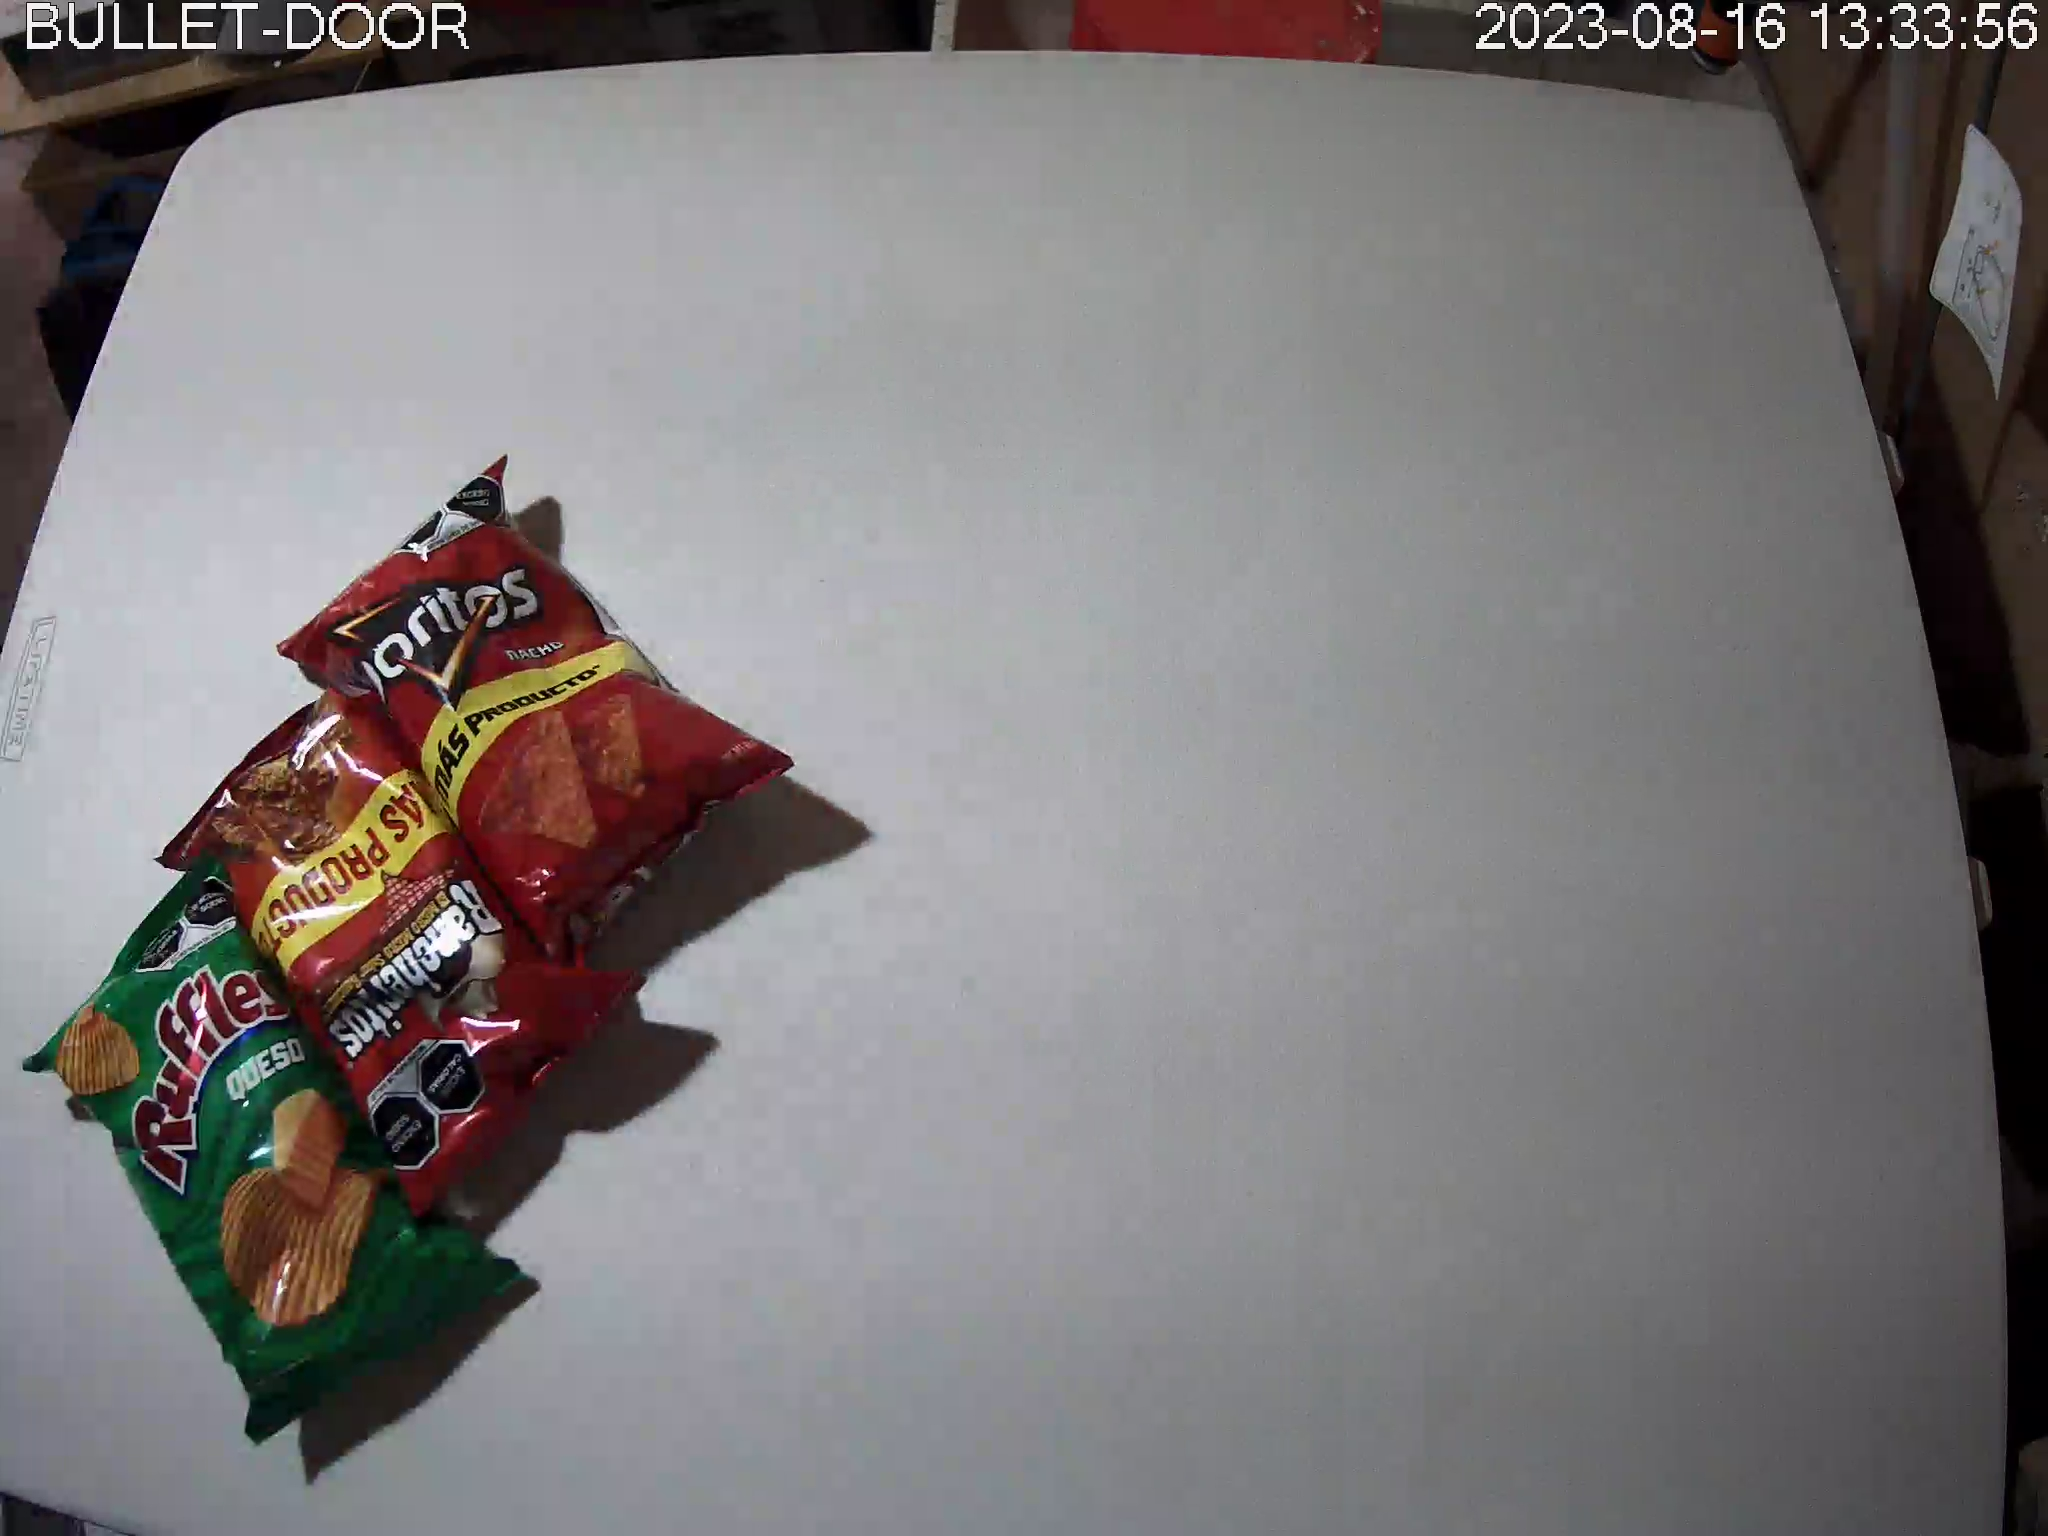DoritosN_61_F: (279, 457, 805, 968)
Rancheritos_58_F: (153, 695, 648, 1215)
RufflesQ_48_F: (24, 857, 527, 1447)
